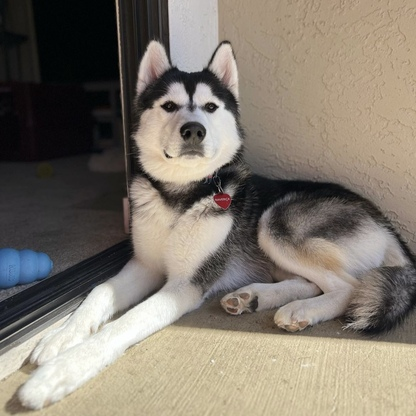husky: (10, 27, 416, 409)
